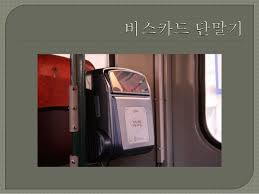terminal: (83, 65, 159, 158)
